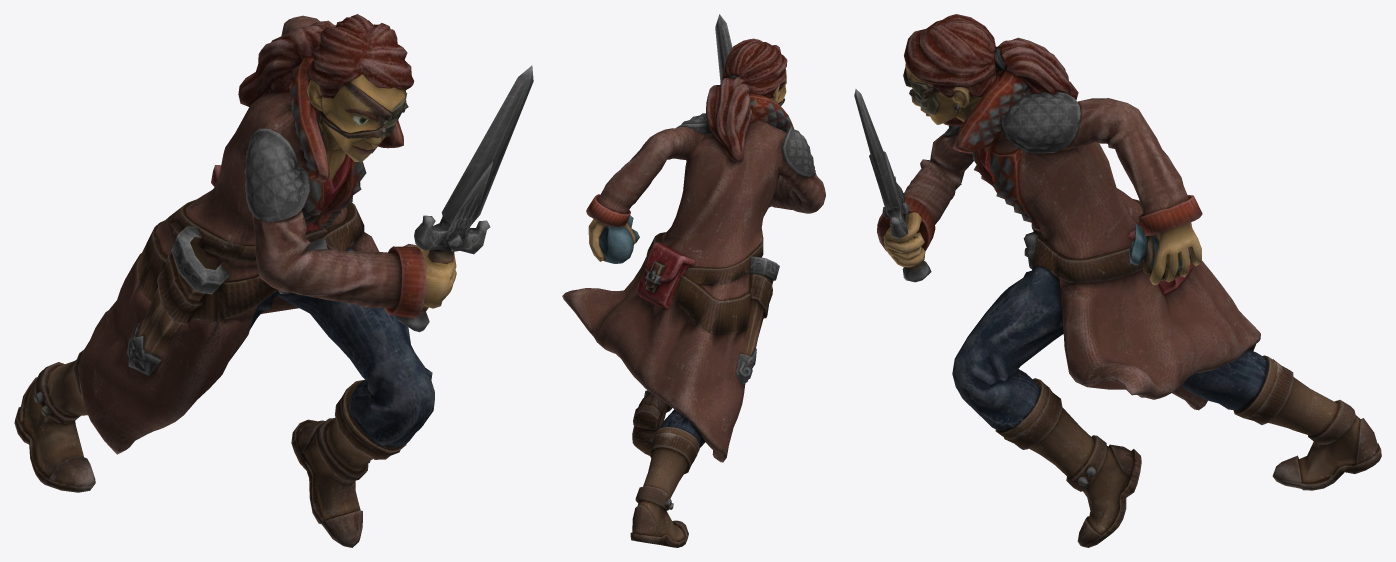
File: MZ4250 - Spy Female 02.glb
3 renders of one model, left to right at view 1: azimuth 30°, elevation 25°; view 2: azimuth 150°, elevation 25°; view 3: azimuth 270°, elevation 25°, orthographic. The views are drawn at different scales.
Parts seen in each view (by area): view 1: SpyFemale; view 2: SpyFemale; view 3: SpyFemale.
Boxes of the visible parts, left/top/right/bottom form: SpyFemale: left=14, top=14, right=533, bottom=547; SpyFemale: left=562, top=14, right=825, bottom=547; SpyFemale: left=854, top=14, right=1381, bottom=547.
Bounding box in the file's own units: 0.4062 × 0.767 × 0.7359.
1 material, 1 textured.
